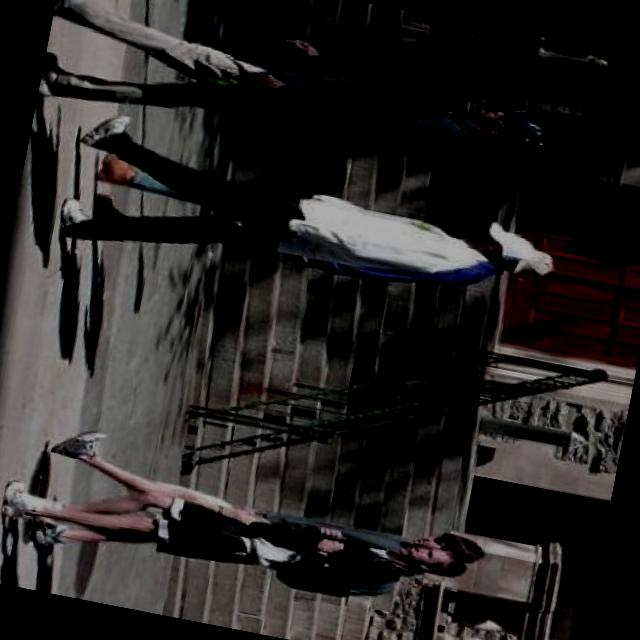Person: (51, 107, 548, 336), (38, 0, 565, 187), (0, 455, 469, 622)
